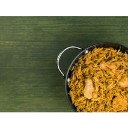briyani: (74, 52, 127, 114)
